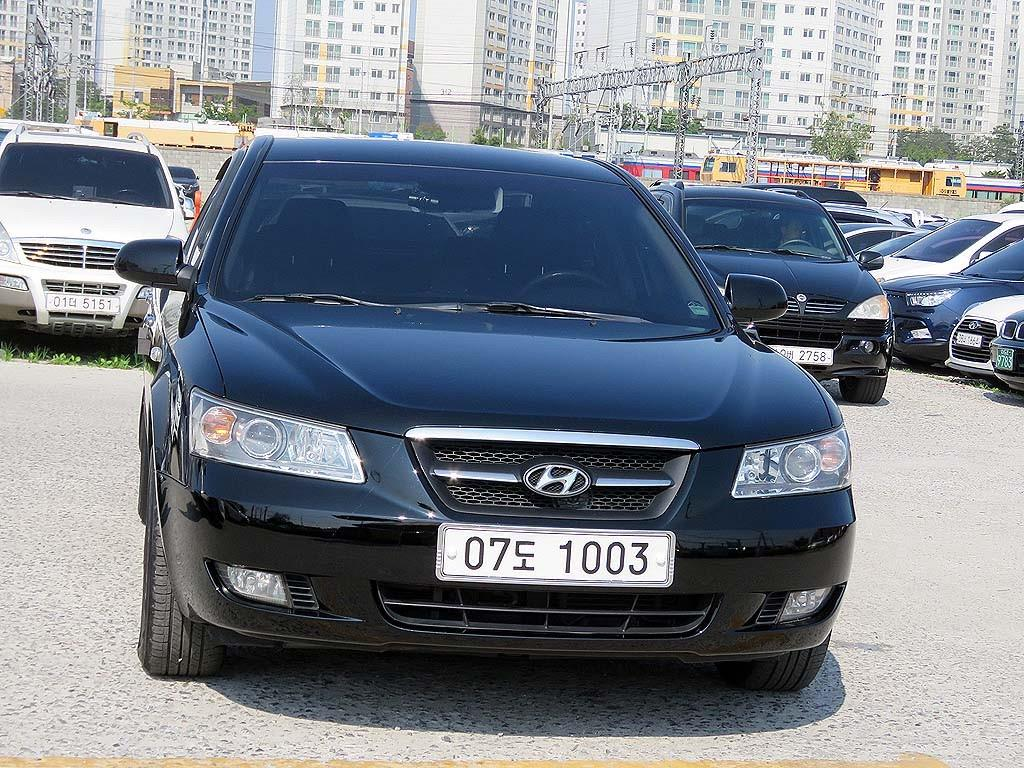plate: (443, 528, 669, 582)
